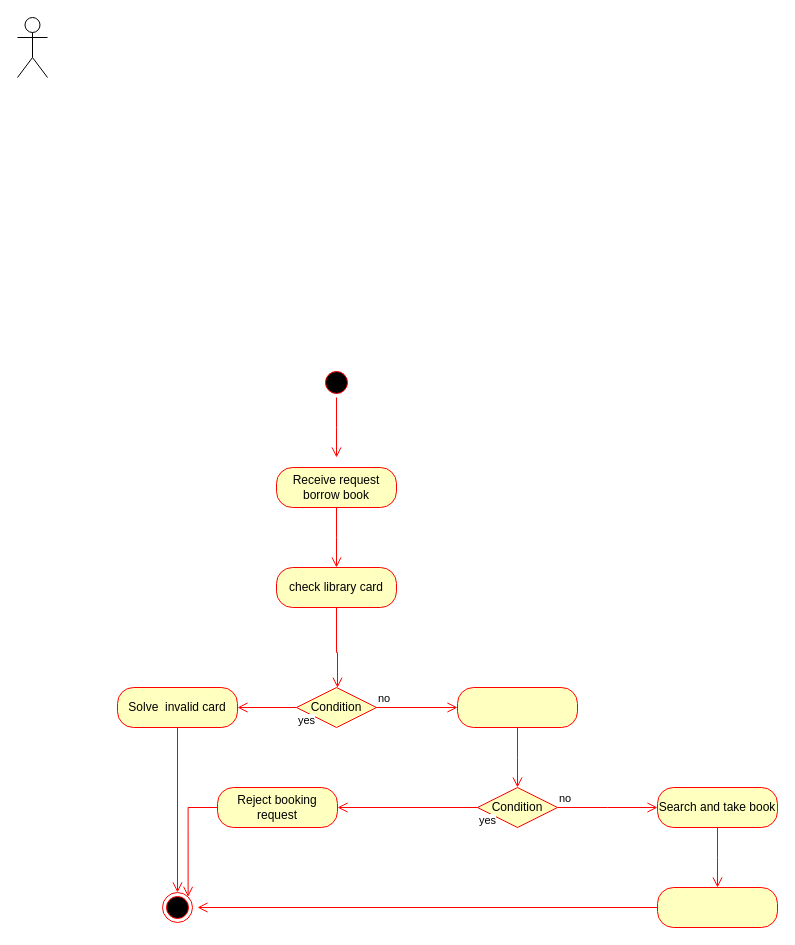
Image size: 795x945. Some labels were removed from this diagram. The shapes that lost their labels are listed below. From the top down, each one's box as (x1, y1, x2, y2) in pixels, then its label:
(16, 16, 48, 78): Actor
(456, 686, 578, 728): Check previous borrow
(656, 886, 778, 928): Activity
